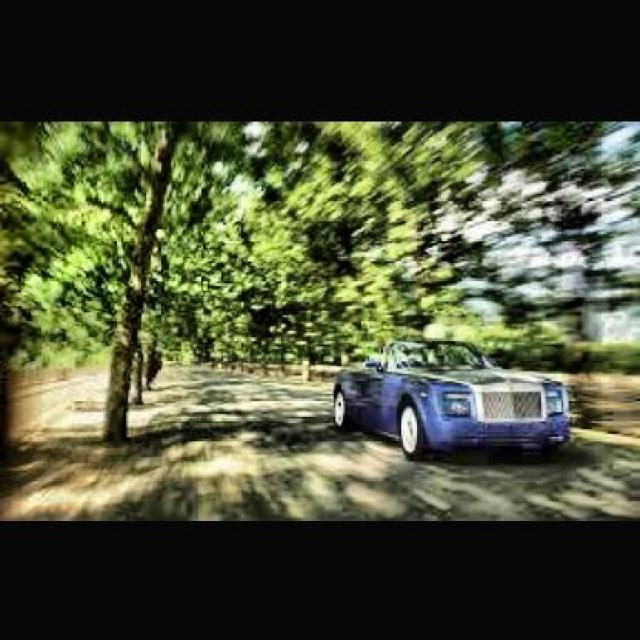blue: (316, 328, 580, 462)
